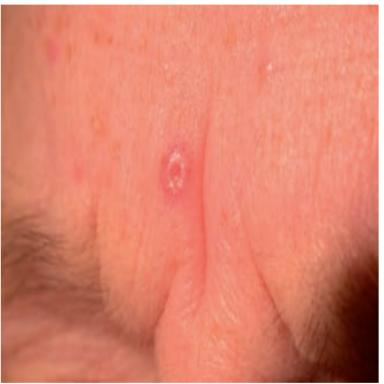basal-cell-carcinoma: (161, 144, 191, 196)
